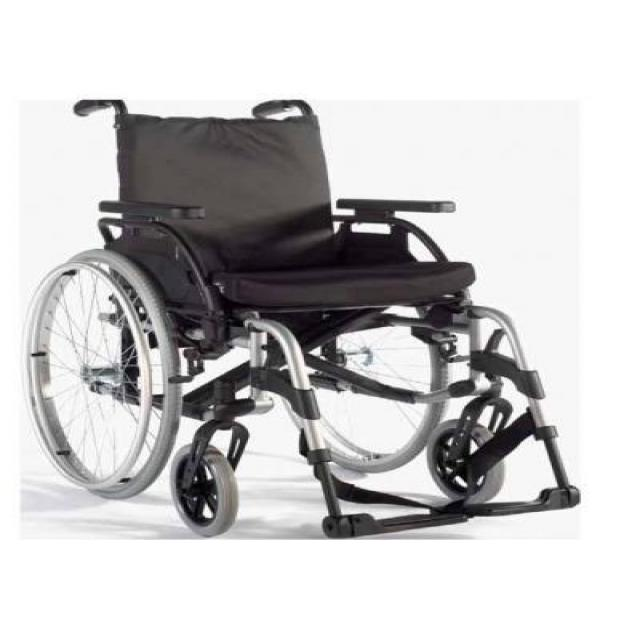wheelchair: (4, 83, 607, 547)
